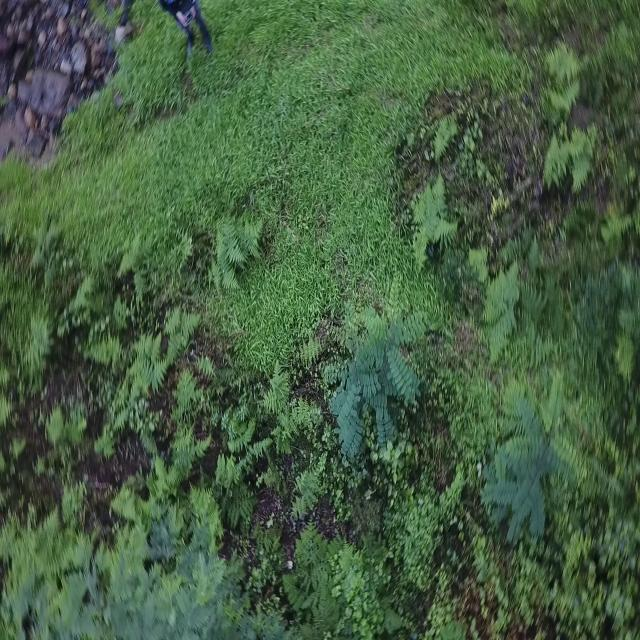Mysore-Thorn-Weed: (322, 278, 424, 460), (483, 364, 574, 556)
